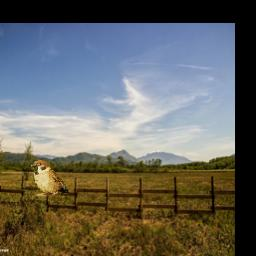Sparrow: (29, 160, 69, 197)
